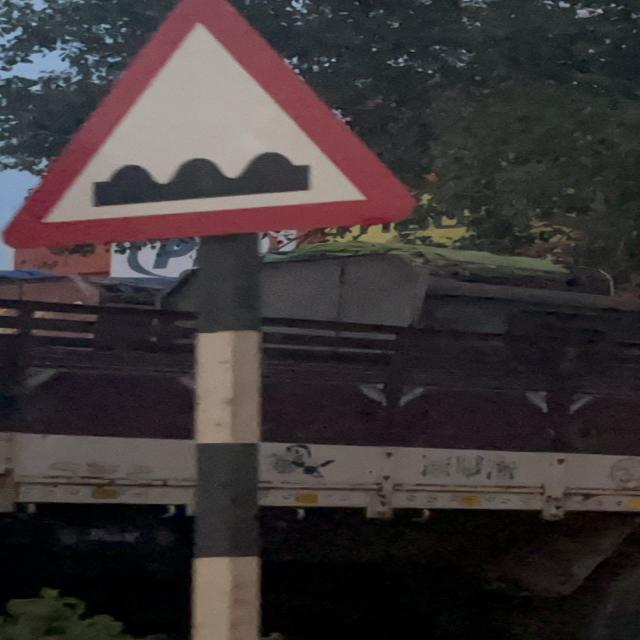Rumble_strip: (3, 4, 423, 233)
